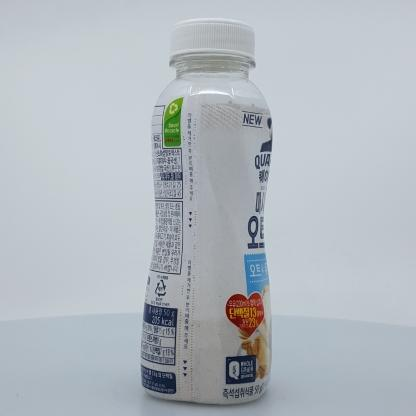---------50G: (141, 18, 272, 404)
